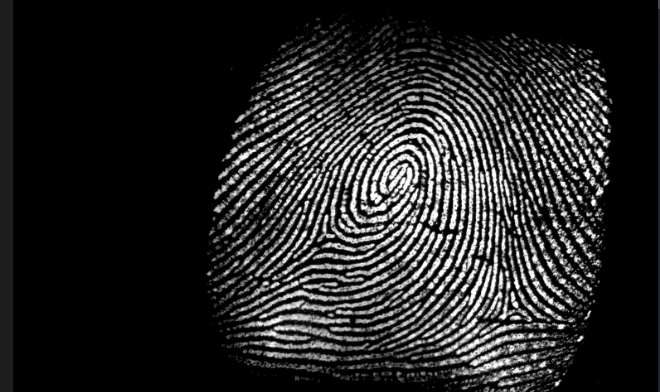deltas: (480, 269, 541, 333), (301, 207, 352, 260)
nucleo: (372, 142, 426, 203)
